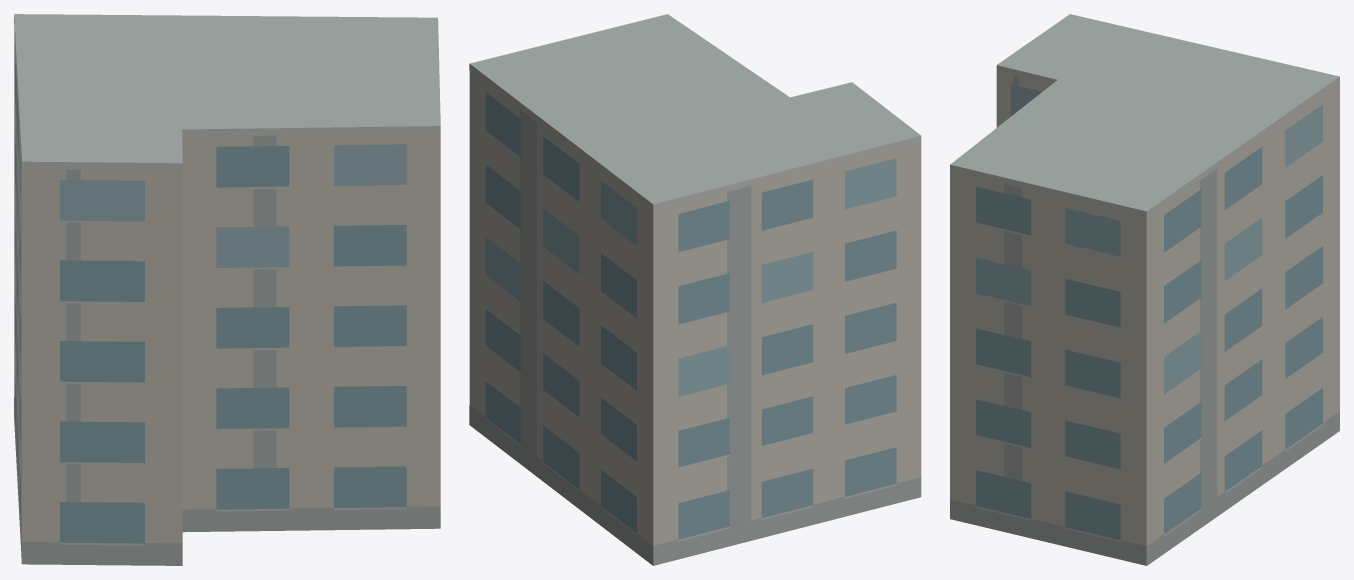
The model's file is survey-upis-32891477.glb.
3 views of the same model, side by side, from view 1: azimuth 30°, elevation 25°; view 2: azimuth 150°, elevation 25°; view 3: azimuth 270°, elevation 25° (orthographic). The views are drawn at different scales.
Visible parts, largest first — view 1: survey-upis-32891477.tmp; view 2: survey-upis-32891477.tmp; view 3: survey-upis-32891477.tmp.
Part boxes in pixels (bbox=[...]): survey-upis-32891477.tmp: bbox=[14, 14, 440, 565]; survey-upis-32891477.tmp: bbox=[469, 14, 921, 565]; survey-upis-32891477.tmp: bbox=[950, 14, 1339, 565].
Size of the model in its own units: 15.78 by 13.2 by 13.16.
